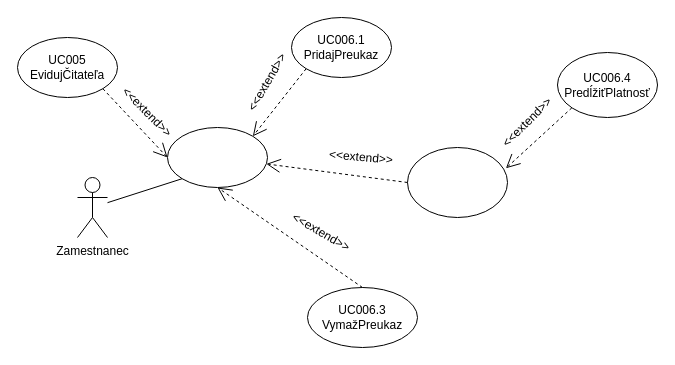
Some shapes in this 675 by 365 pixel diagram are drawn without their labels. The shapes that lost their labels are listed below. From the top down, each one's centre as x and y in pixels, then its label:
At point 217,157: "UC006 EvidujPreukaz".
At point 457,182: "UC006.2 EditujPreukaz".
